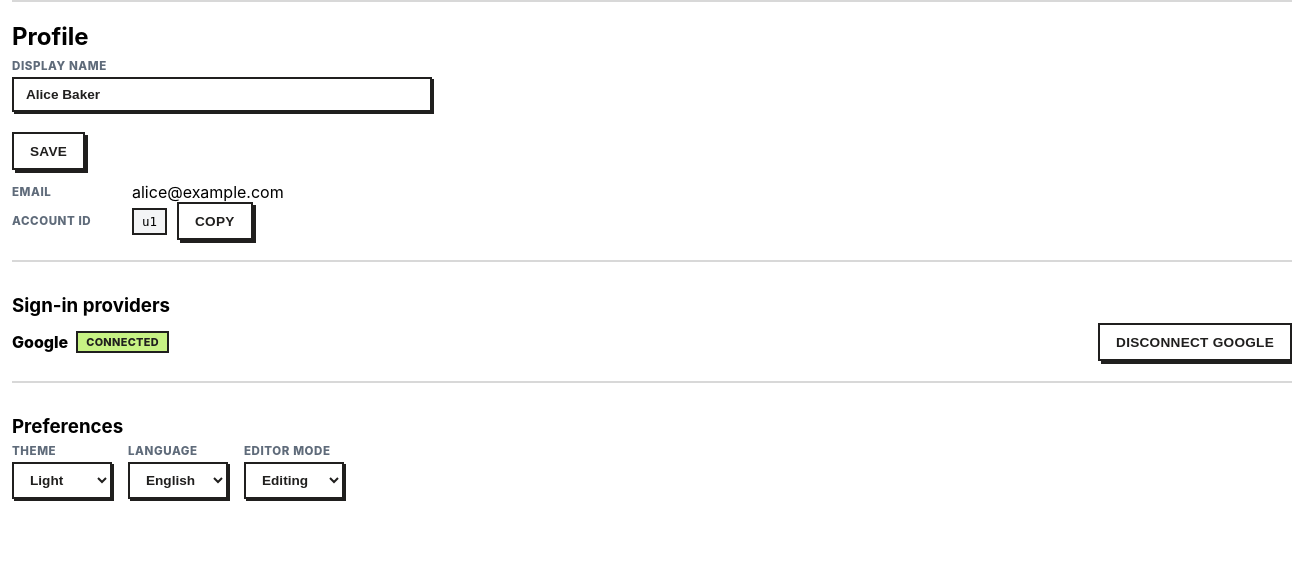
Test: ProfileSection › marks a linked provider and disconnects it
The width and height of the screenshot is (1304, 561).
Check: the text "Connected" is shown, box top-left (76, 331), bottom-right (169, 353)
Click the button "Disconnect Google" at (1195, 342), box top-left (1098, 323), bottom-right (1292, 361)
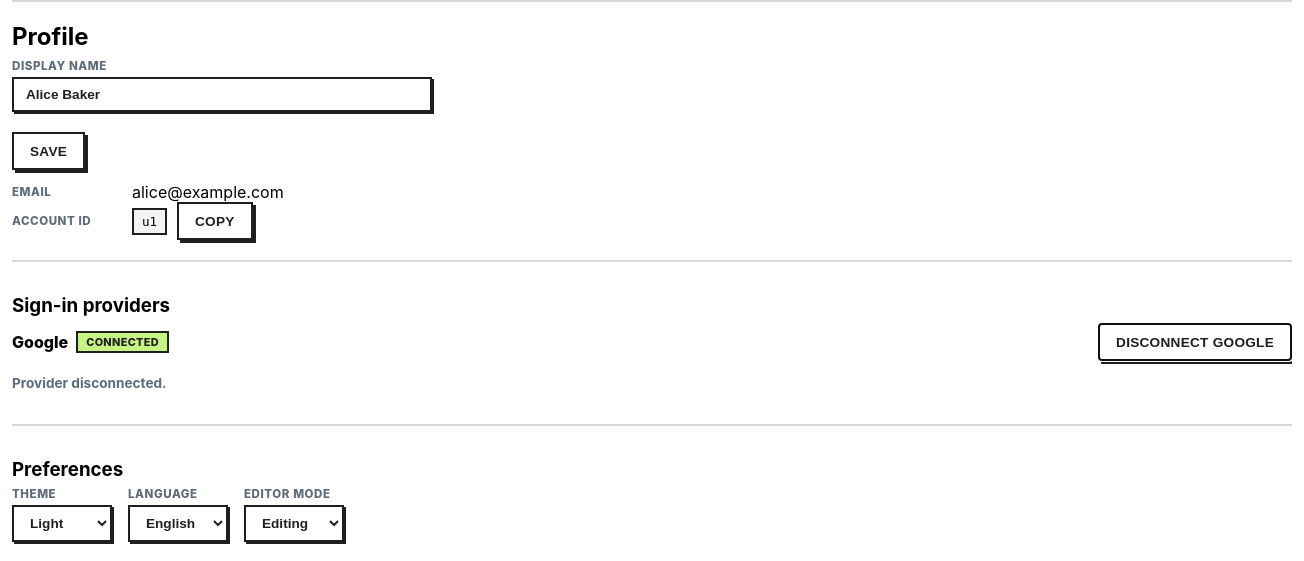
Check: the text "Provider disconnected." is shown, box top-left (12, 375), bottom-right (167, 391)
